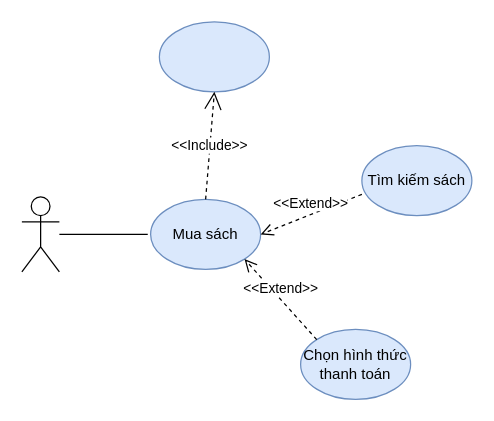
The diagram is 494 pixels wide and 421 high, and some of its shapes have lost their labels. Here are the shapes that lost their labels. From the top down, the centre of each, then its label:
At (213,56): "Đăng nhập".
At (40,234): "User".
